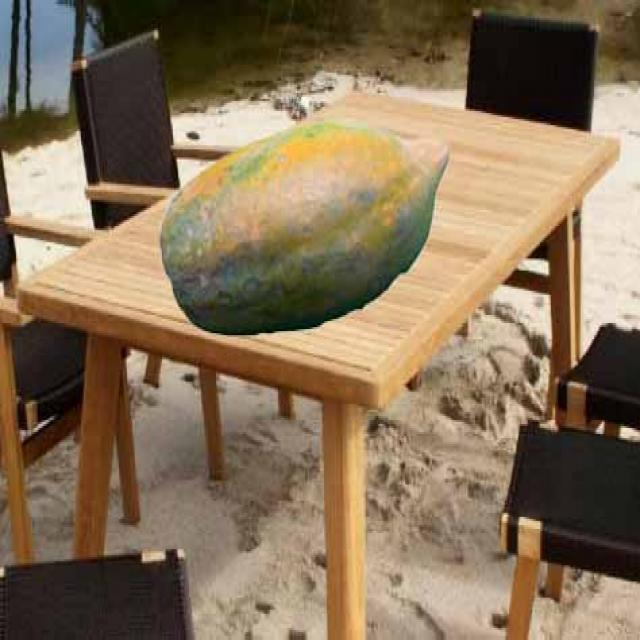Pepaya rippen: (156, 105, 448, 331)
